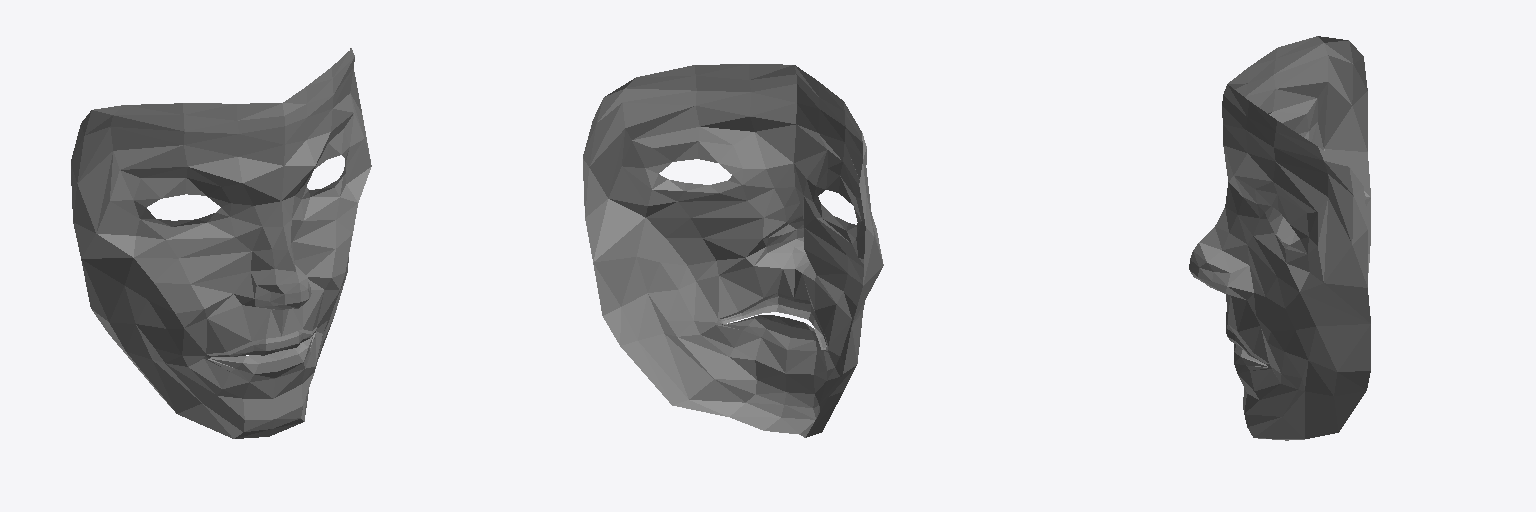
Rendered from Ivo1.obj.
The picture shows the model from 3 angles: view 1: azimuth 30°, elevation 25°; view 2: azimuth 150°, elevation 25°; view 3: azimuth 270°, elevation 25°; orthographic projection.
Parts seen in each view (by area): view 1: Plane003; view 2: Plane003; view 3: Plane003.
Boxes of the visible parts, x1=… form: Plane003: x1=71, y1=48, x2=371, y2=438; Plane003: x1=583, y1=64, x2=883, y2=437; Plane003: x1=1189, y1=36, x2=1370, y2=440.
Bounding box in the file's own units: 27.41 × 31.63 × 15.18.